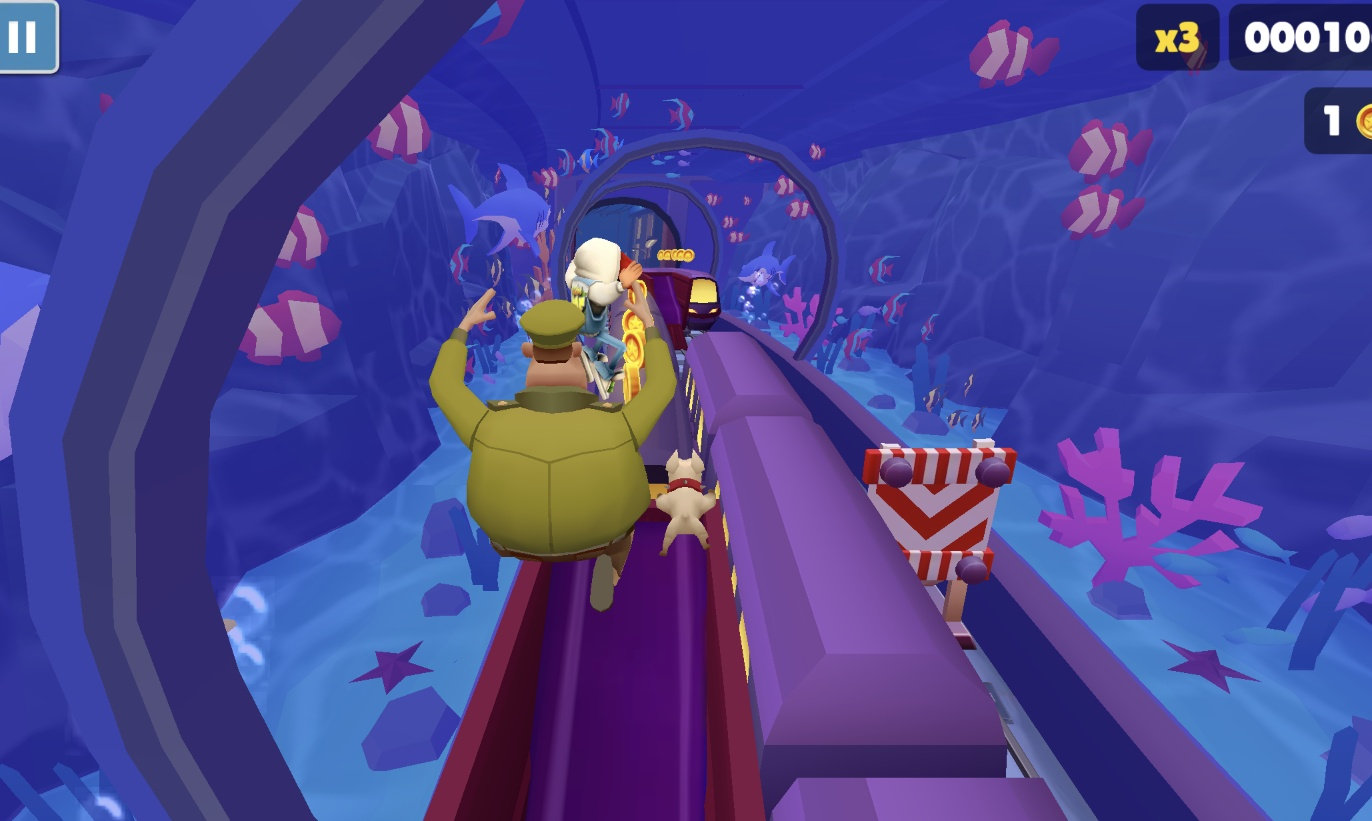overhead_barrier: (861, 440, 1027, 647)
train: (686, 321, 1085, 821), (432, 355, 776, 821), (639, 271, 724, 357), (683, 273, 723, 330)
